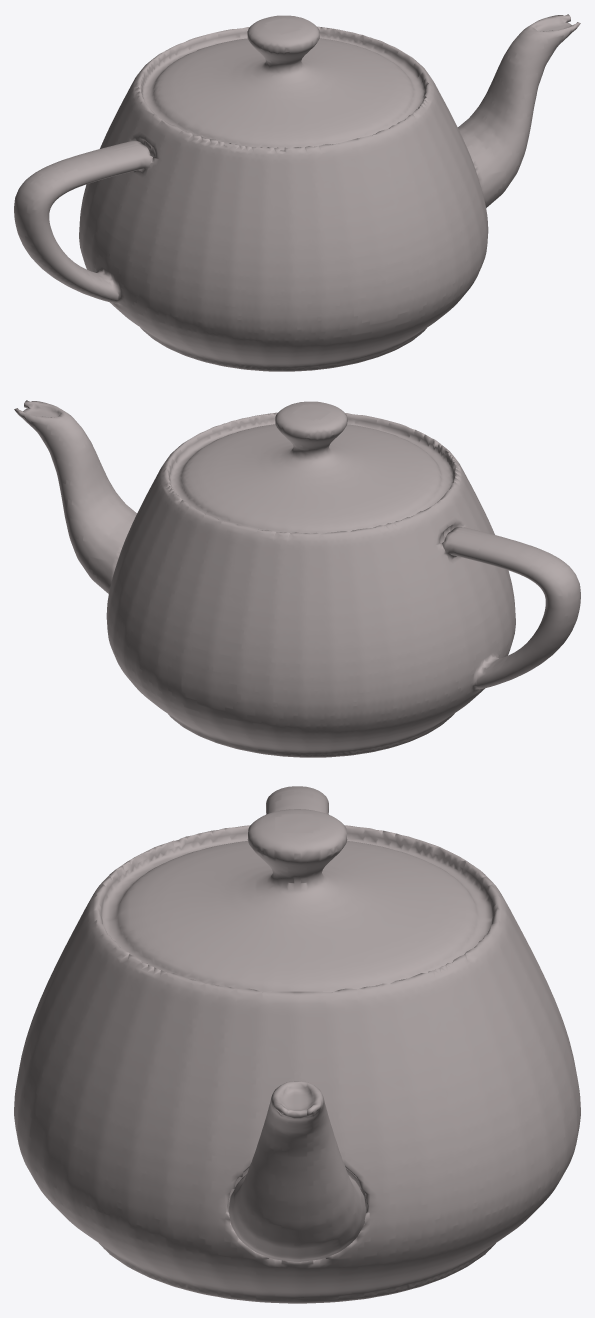
The model's file is teapot.glb.
The picture shows the model from 3 angles, top to bottom: view 1: azimuth 30°, elevation 25°; view 2: azimuth 150°, elevation 25°; view 3: azimuth 270°, elevation 25°; orthographic projection. The views are drawn at different scales.
Parts seen in each view (by area): view 1: model_0; view 2: model_0; view 3: model_0.
Part boxes in pixels (left/top/right/bottom): model_0: left=14, top=14, right=580, bottom=371; model_0: left=14, top=400, right=580, bottom=757; model_0: left=14, top=786, right=580, bottom=1303.
Size of the model in its own units: 31.42 by 15.74 by 19.97.
Materials: 1 (1 with a texture image).
